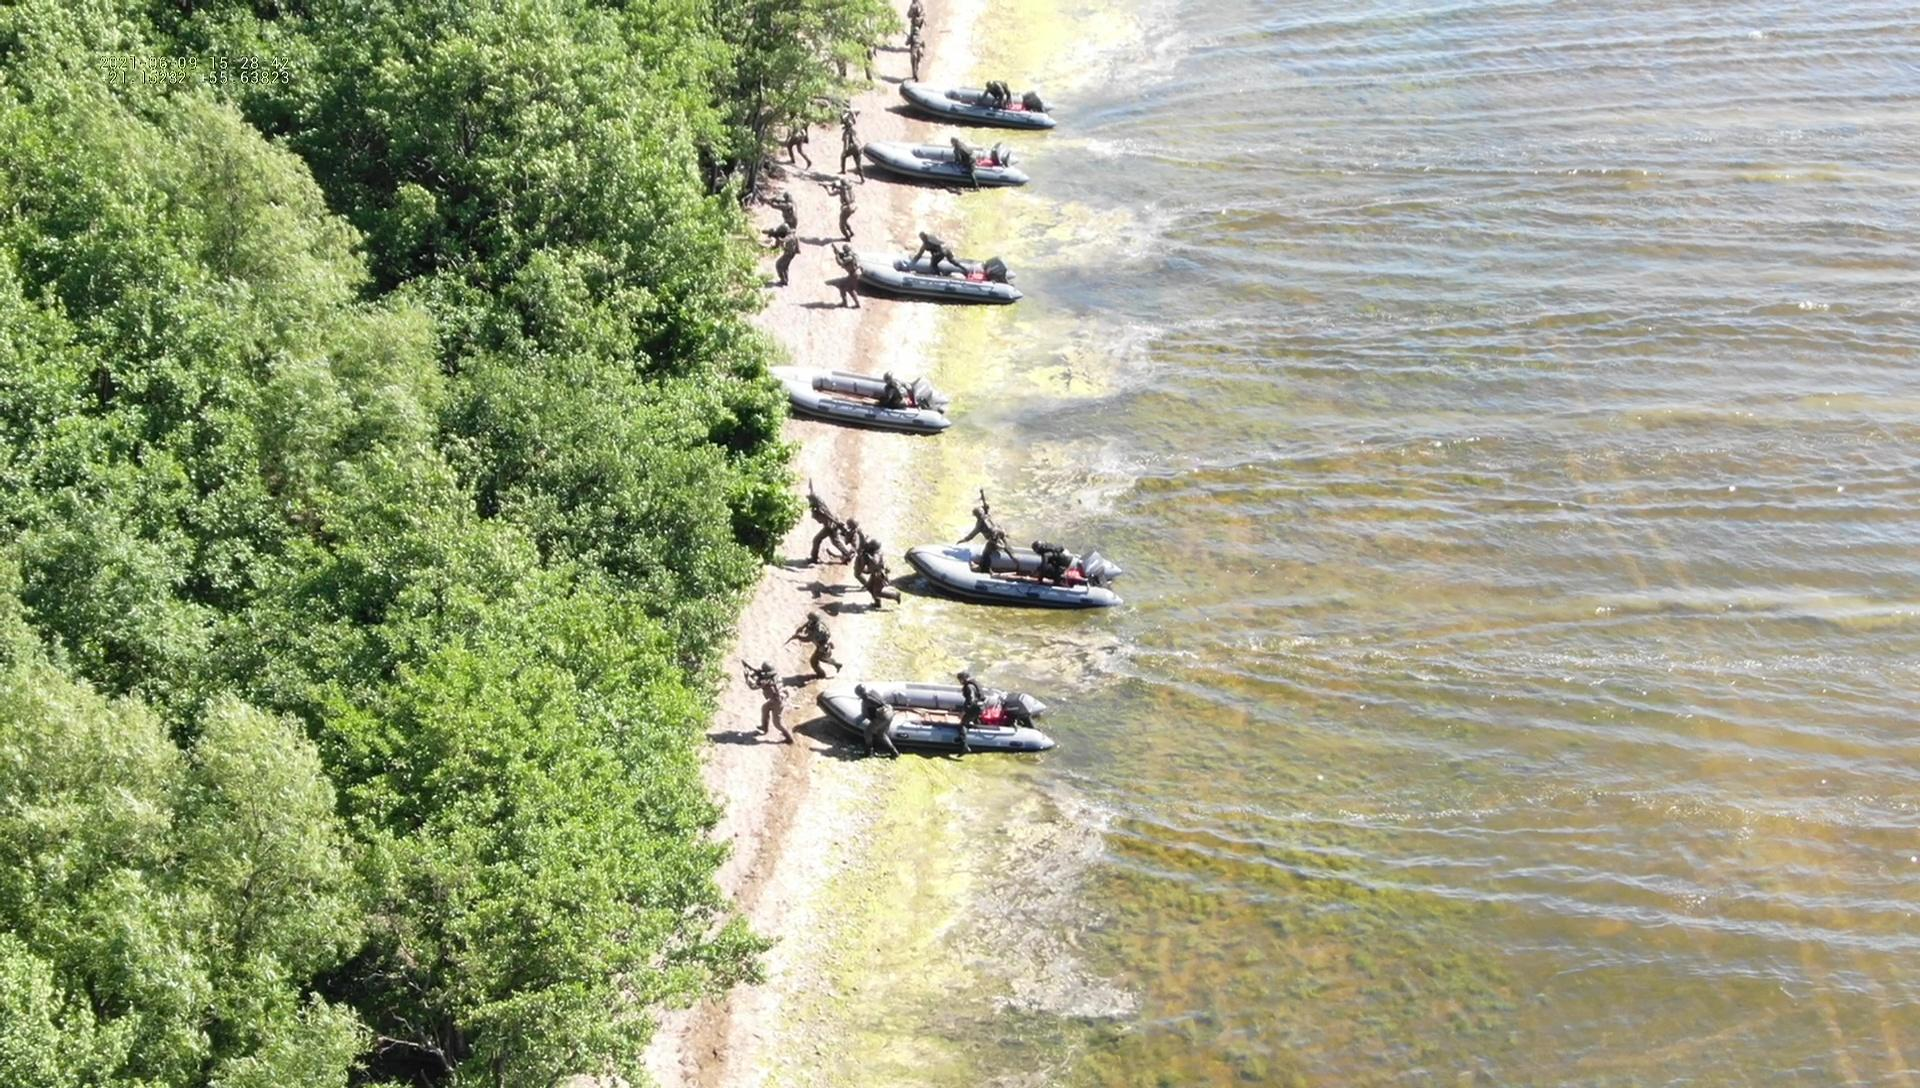Soldier: (740, 658, 796, 746), (847, 680, 905, 764), (956, 487, 1011, 572), (819, 502, 872, 588), (804, 475, 851, 568), (785, 609, 843, 680), (858, 528, 902, 613), (760, 222, 802, 287), (819, 177, 861, 241), (829, 243, 865, 311), (833, 113, 866, 175), (899, 26, 927, 84)
